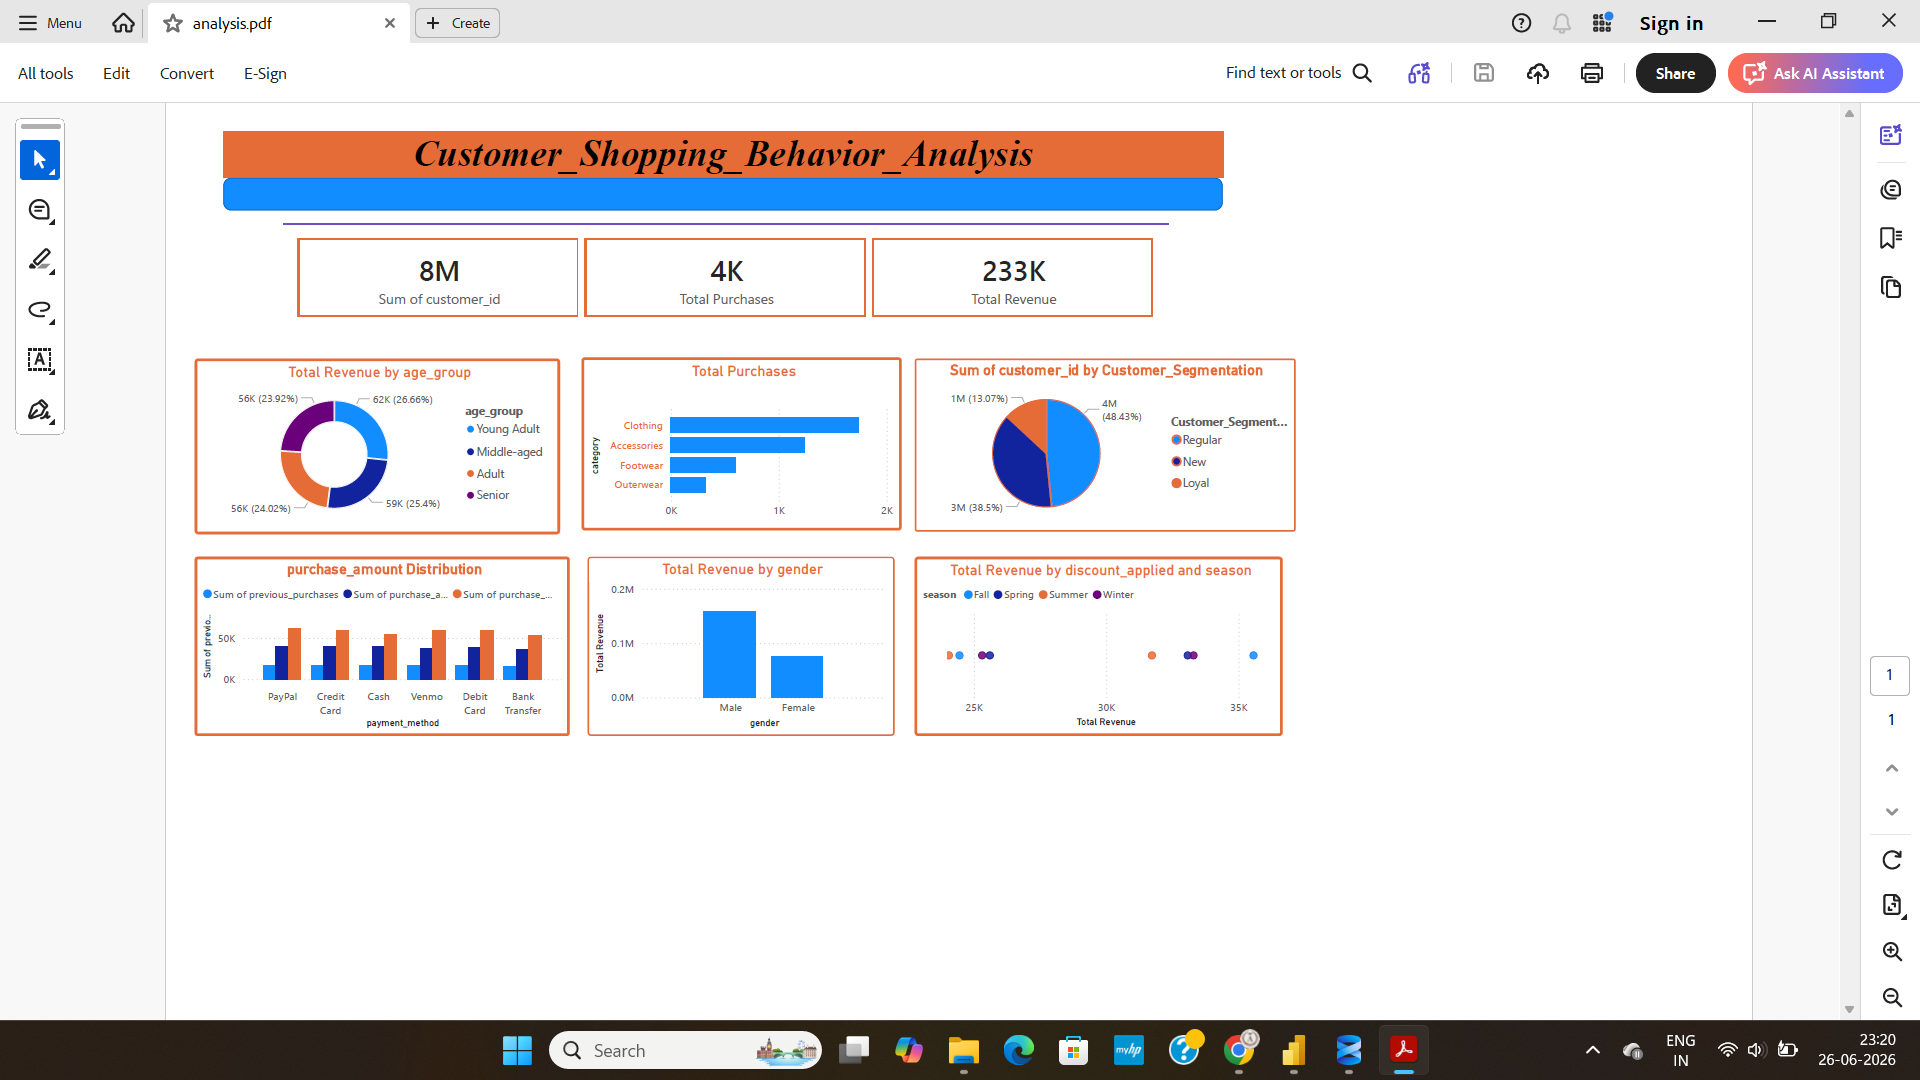

The dashboard page shown, as its layout file describes it:
{"tool":"powerbi","page":{"name":"Page 1","canvas":[1280,720],"ordinal":0},"visuals":[{"type":"shape","title":"Customer_Shopping_Behavior_Analysis","box":[32.9,0,1148.5,90.6],"z":0},{"type":"cardVisual","fields":{"Data":["Sum(customer.customer_id)","customer.Total Purchases","customer.Total Revenue"]},"box":[101.5,100.2,1018.2,129],"z":1},{"type":"barChart","fields":{"Category":["customer.category"],"Y":["customer.Total Purchases"]},"box":[444.6,259.3,367.8,199],"z":2},{"type":"pieChart","fields":{"Category":["customer.Customer_Segmentation"],"Y":["Sum(customer.customer_id)"]},"box":[827.4,260.7,437.7,199],"z":3},{"type":"clusteredColumnChart","title":"purchase_amount Distribution","fields":{"Y":["Sum(customer.previous_purchases)","Sum(customer.purchase_amount)","Sum(customer.purchase_frequency_days)"],"Category":["customer.payment_method"]},"box":[0,488.5,430.9,205.8],"z":4},{"type":"columnChart","fields":{"Y":["customer.Total Revenue"],"Category":["customer.gender"]},"box":[451.5,488.5,352.7,205.8],"z":5},{"type":"donutChart","fields":{"Y":["customer.Total Revenue"],"Category":["customer.age_group"]},"box":[0,260.7,419.9,201.7],"z":6},{"type":"scatterChart","fields":{"Category":["customer.discount_applied"],"Series":["customer.season"],"X":["customer.Total Revenue"]},"box":[827.4,488.5,422.6,205.8],"z":7}]}

Visuals, with their boxes on the page's 1280x720 design canvas (x1, y1, x2, y2). These are canvas units, not pixel positions in the 1920x1080 screenshot, which may show the page scaled, cropped or inside an application window:
"Customer_Shopping_Behavior_Analysis" shape: box(33, 0, 1181, 91)
cardVisual - Sum(customer.customer_id) x customer.Total Purchases: box(102, 100, 1120, 229)
barChart - customer.category x customer.Total Purchases: box(445, 259, 812, 458)
pieChart - customer.Customer_Segmentation x Sum(customer.customer_id): box(827, 261, 1265, 460)
"purchase_amount Distribution" clusteredColumnChart: box(0, 488, 431, 694)
columnChart - customer.Total Revenue x customer.gender: box(452, 488, 804, 694)
donutChart - customer.Total Revenue x customer.age_group: box(0, 261, 420, 462)
scatterChart - customer.discount_applied x customer.season: box(827, 488, 1250, 694)
